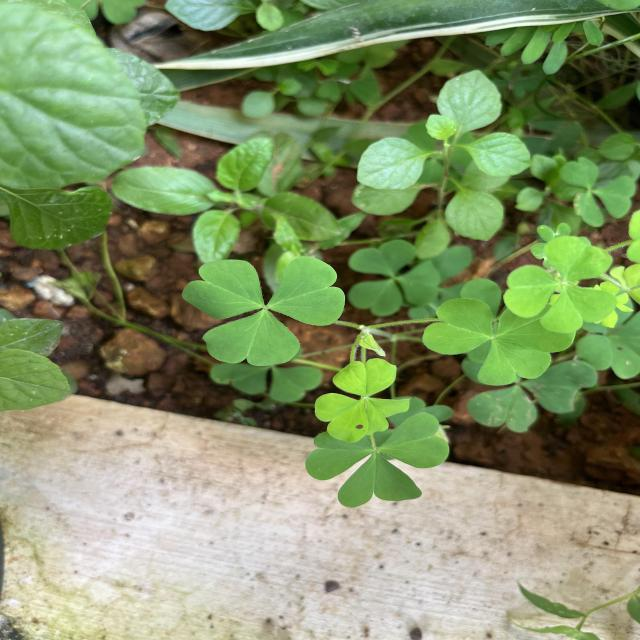Oxalis corniculata: (181, 255, 347, 367), (304, 411, 450, 509), (422, 298, 576, 387), (502, 235, 619, 334), (314, 357, 411, 444)
